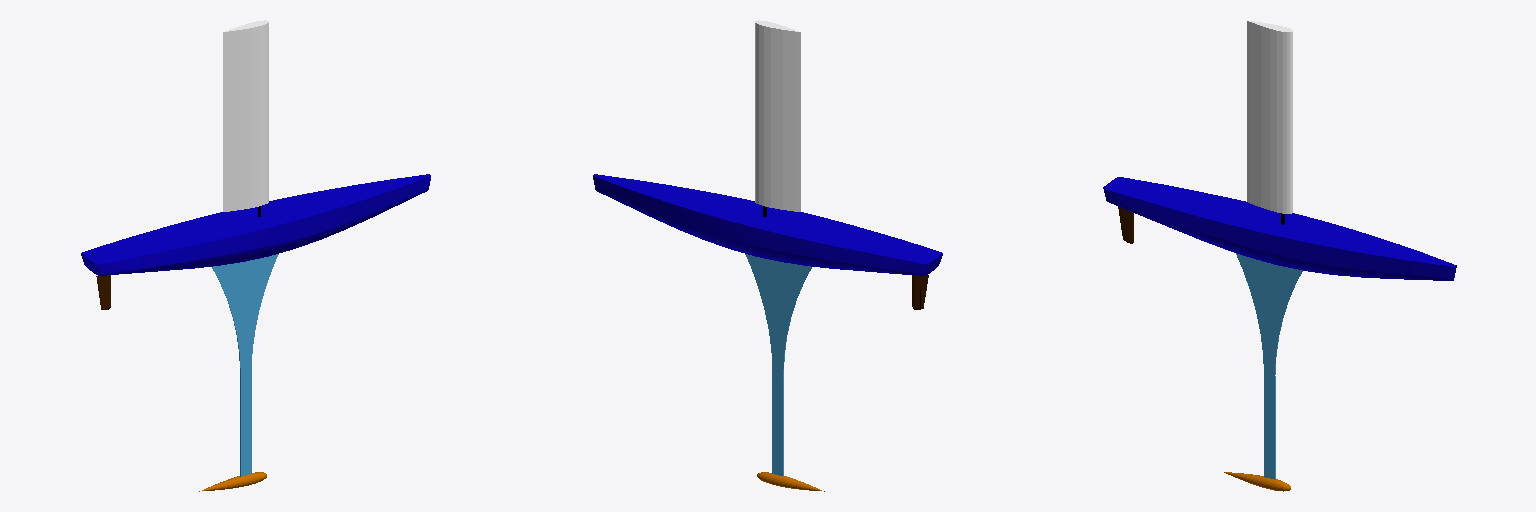
URDF robot description (codfather):
<?xml version="1.0"?>
<robot name="codfather">
    <link name="body">
        <inertial>
            <!-- <origin rpy="0 0 0" xyz="-0.073357 0.000076 0.026509" /> -->
            <origin rpy="0 0 0" xyz="-0.073357 0.000076 1.474309" />
            <mass value="8" />
            <inertia ixx="0.05528877352368592" ixy="0.0" iyy="1.516807268007787" ixz="0.014795587280986374" iyz="0.0" izz="1.5313432835820897" />
        </inertial>

        <collision name="collision">
            <geometry>
                <mesh filename="package://usv_sim/usv_sim/meshes/codfather/deck_hull_convex_hull.obj" scale="1 1 1" />
            </geometry>
            <origin rpy="0 0 0" xyz="0 0 1.4478" />
        </collision>

        <visual name="visual">
            <geometry>
                <mesh filename="package://usv_sim/usv_sim/meshes/codfather/deck_hull.dae" scale="1 1 1" />
            </geometry>
            <origin rpy="0 0 0" xyz="0 0 1.4478" />
        </visual>
    </link>

    <link name="keel">
        <inertial>
            <!-- <origin rpy="0 0 0" xyz="0 0 0.211163" /> -->
            <origin rpy="0 0 0" xyz="-0.0762 0 0.975963" />
            <mass value="2.75" />
            <inertia ixx="0.357177734375" ixy="0.0" iyy="0.373291015625" ixz="0.0" iyz="0.0" izz="0.01611328125" />
        </inertial>

        <visual name="keel_visual">
            <geometry>
                <mesh filename="package://usv_sim/usv_sim/meshes/codfather/keel.obj" scale="1 1 1" />
            </geometry>
            <origin rpy="0 0 0" xyz="-0.0762 0 0.7648" />
        </visual>

        <collision name="keel_collision">
            <geometry>
                <mesh filename="package://usv_sim/usv_sim/meshes/codfather/keel.obj" scale="1 1 1" />
            </geometry>
            <origin rpy="0 0 0" xyz="-0.0762 0 0.7648" />
        </collision>
    </link>

    <link name="ballast">
        <inertial>
            <origin rpy="0 0 0" xyz="-0.179481 -0.000115 0.097428" />
            <!-- <origin rpy="0 0 0" xyz="0.045519 -0.000115 0.000028" /> -->
            <mass value="2.2" />
            <inertia ixx="0.0007085242765957447" ixy="-4.015390070921986e-08" iyy="0.013527595578652482" ixz="2.5175918439716314e-07" iyz="-1.4763794326241135e-08" izz="0.013527072944468085" />
        </inertial>

        <visual name="ballast_visual">
            <geometry>
                <mesh filename="package://usv_sim/usv_sim/meshes/codfather/ballast.dae" scale="1 1 1" />
            </geometry>
            <origin rpy="0 0 0" xyz="-0.225 0 0.0974" />
        </visual>

        <collision name="ballast_collision">
            <geometry>
                <mesh filename="package://usv_sim/usv_sim/meshes/codfather/ballast_convex_hull.obj" scale="1 1 1" />
            </geometry>
            <origin rpy="0 0 0" xyz="-0.225 0 0.0974" />
        </collision>
    </link>

    <link name="mast">
        <inertial>
            <!-- <origin rpy="0 0 0" xyz="-0.000000 -0.000013 1.968355" /> -->
            <origin rpy="0 0 0" xyz="-0.000000 -0.000013 0.000355" />
            <mass value="1" />
            <inertia ixx="0.09072859154929577" ixy="0.0" iyy="0.09072929577464789" ixz="-1.5492957746478874e-07" iyz="-1.408450704225352e-07" izz="4.9999999999999996e-05" />
        </inertial>

        <visual name="mast_visual">
            <geometry>
                <mesh filename="package://usv_sim/usv_sim/meshes/codfather/mast.dae" scale="1 1 1" />
            </geometry>
            <!-- <origin rpy="0 0 0" xyz="0 0 1.968" /> -->
            <origin rpy="0 0 0" xyz="0 0 0.5202" />
        </visual>

        <collision name="mast_collision">
            <geometry>
                <mesh filename="package://usv_sim/usv_sim/meshes/codfather/MainAxle.obj" scale="1 1 1" />
            </geometry>
            <!-- <origin rpy="0 0 0" xyz="0 0 1.968" /> -->
            <origin rpy="0 0 0" xyz="0 0 0.5202" />
        </collision>
    </link>

    <link name="sail">
        <inertial>
            <origin rpy="0 0 0" xyz="-0.022806 -0.000095 0.6726" />
            <!-- <origin rpy="0 0 0" xyz="-0.022806 -0.000095 0.000000" /> -->
            <mass value="1" />
            <inertia ixx="0.08199047329482112" ixy="0.0" iyy="0.08543630282760717" ixz="0.0" iyz="0.0" izz="0.00385122124252559" />
        </inertial>

        <collision name="sail_collision">
            <geometry>
                <mesh filename="package://usv_sim/usv_sim/meshes/codfather/sail_alone_convex_hull.obj" scale="1 1 1" />
            </geometry>
            <!-- <origin rpy="0 0 3.1415926535897932" xyz="0 0 2.1204" /> -->
            <origin rpy="0 0 3.1415926535897932" xyz="0 0 0.6726" />
        </collision>

        <visual name="sail_visual">
            <geometry>
                <mesh filename="package://usv_sim/usv_sim/meshes/codfather/sail.dae" scale="1 1 1" />
            </geometry>
            <origin rpy="0 0 3.1415926535897932" xyz="0 0 0.6726" />
        </visual>
    </link>

    <link name="axle">
        <!-- <inertial>
            <origin rpy="0 0 0" xyz="-0.000013 0 0.000745" />
            <mass value="0.1" />
            <inertia ixx="0.0006398298250000001" ixy="1.1850000000000001e-09" iyy="0.00063982525" ixz="2.4567375000000005e-07" iyz="7.371e-08" izz="4.6929625e-07" />
        </inertial> -->

        <!-- <collision name="axle_collision">
            <geometry>
                <mesh filename="package://usv_sim/usv_sim/meshes/codfather/RudderAxle_convex_hull.obj" scale="1 1 1" />
            </geometry>
        </collision> -->

        <inertial>
            <origin rpy="0 0 0" xyz="-0.03 0 -0.035" />
            <mass value="0.5" />
            <inertia ixx="0.0015580802136752137" ixy="-1.7161266666666664e-05" iyy="0.0017239371367521368" ixz="0.00010010581196581196" iyz="1.0223873504273504e-05" izz="0.0001771534829059829" />
        </inertial>

        <visual name="axle_visual">
            <geometry>
                <mesh filename="package://usv_sim/usv_sim/meshes/codfather/axle.dae" scale="1 1 1" />
            </geometry>
            <!-- <origin rpy="0 0 0" xyz="-0.894724 0 1.3970" /> -->
        </visual>

        <collision name="rudder_collision">
            <geometry>
                <mesh filename="package://usv_sim/usv_sim/meshes/codfather/rudder_convex_hull.obj" scale="1 1 1" />
            </geometry>
            <origin rpy="0 0 0" xyz="0 0 -0.0508" />
        </collision>

        <visual name="rudder_visual">
            <geometry>
                <mesh filename="package://usv_sim/usv_sim/meshes/codfather/rudder.dae" scale="1 1 1" />
            </geometry>
            <origin rpy="0 0 0" xyz="0 0 -0.0508" />
        </visual>
    </link>

    <!-- <link name="rudder">
        <inertial>
            <origin rpy="0 0 0" xyz="0 0 -0.035" />
            <mass value="0.5" />
            <inertia ixx="0.0015580802136752137" ixy="-1.7161266666666664e-05" iyy="0.0017239371367521368" ixz="0.00010010581196581196" iyz="1.0223873504273504e-05" izz="0.0001771534829059829" />
        </inertial>

        <collision name="rudder_collision">
            <geometry>
                <mesh filename="package://usv_sim/usv_sim/meshes/codfather/rudder_convex_hull.obj" scale="1 1 1" />
            </geometry>
            <origin rpy="0 0 0" xyz="0 0 -0.0508" />
        </collision>

        <visual name="rudder_visual">
            <geometry>
                <mesh filename="package://usv_sim/usv_sim/meshes/codfather/rudder.dae" scale="1 1 1" />
            </geometry>
            <origin rpy="0 0 0" xyz="0 0 -0.0508" />
        </visual>
    </link> -->

    <joint name="sail_joint" type="revolute">
        <parent link="body" />
        <child link="mast" />
        <origin rpy="0 0 0" xyz="0 0 1.4478" />
        <dynamics damping="1.0" />
        <axis xyz="0 0 1" />
        <limit effort="100" velocity="70" lower="-3.1415926535897932" upper="3.1415926535897932" />
    </joint>

    <joint name="rudder_joint" type="revolute">
        <parent link="body" />
        <child link="axle" />
        <origin rpy="0 0 0" xyz="-0.894724 0 1.3970" />
        <dynamics damping="1.0" />
        <axis xyz="0 0 1" />
        <limit effort="100" lower="-1.5707963267948966" upper="1.5707963267948966" velocity="5" />
    </joint>

    <joint type="fixed" name="keel_connection">
        <origin rpy="0 0 0" xyz="0 0 0" />
        <child link="keel" />
        <parent link="body" />
    </joint>

    <joint type="fixed" name="ballast_connection">
        <origin rpy="0 0 0" xyz="0.0762 0 0.0254" />
        <child link="ballast" />
        <parent link="keel" />
    </joint>

    <joint type="fixed" name="sail_connection">
        <origin rpy="0 0 0" xyz="-0.0762 0 0" />
        <child link="sail" />
        <parent link="mast" />
    </joint>

    <!-- <joint type="fixed" name="rudder_connection">
        <origin rpy="0 0 0" xyz="0 0 0" />
        <child link="rudder" />
        <parent link="axle" />
    </joint> -->
</robot>

--- What the picture shows (computed from the rendered views, not written in the file) ---
Views: 3 orthographic renders of the robot side by side, from view 1: azimuth 30°, elevation 25°; view 2: azimuth 150°, elevation 25°; view 3: azimuth 330°, elevation 25°.
Model codfather with 6 links and 5 joints (2 revolute, 3 fixed), rooted at body, posed all joints at 0.
Visible links, largest first — view 1: body, sail, keel, ballast; view 2: body, sail, keel, ballast; view 3: body, sail, keel, ballast.
Boxes of the visible links, x1,y1,x2,y2 form: body: (81,174,430,275); sail: (223,20,268,211); keel: (212,254,278,476); ballast: (199,472,266,491); body: (593,174,942,275); sail: (755,20,800,211); keel: (745,254,811,476); ballast: (757,472,824,491); body: (1103,177,1456,280); sail: (1247,21,1292,213); keel: (1236,253,1302,479); ballast: (1224,472,1290,491).
Bounding box of the posed robot: 1.97 × 0.2806 × 2.52 m (x, y, z).
Meshes: 7 distinct files referenced, 7 mesh visuals loaded (6 Collada DAE, 1 OBJ).
